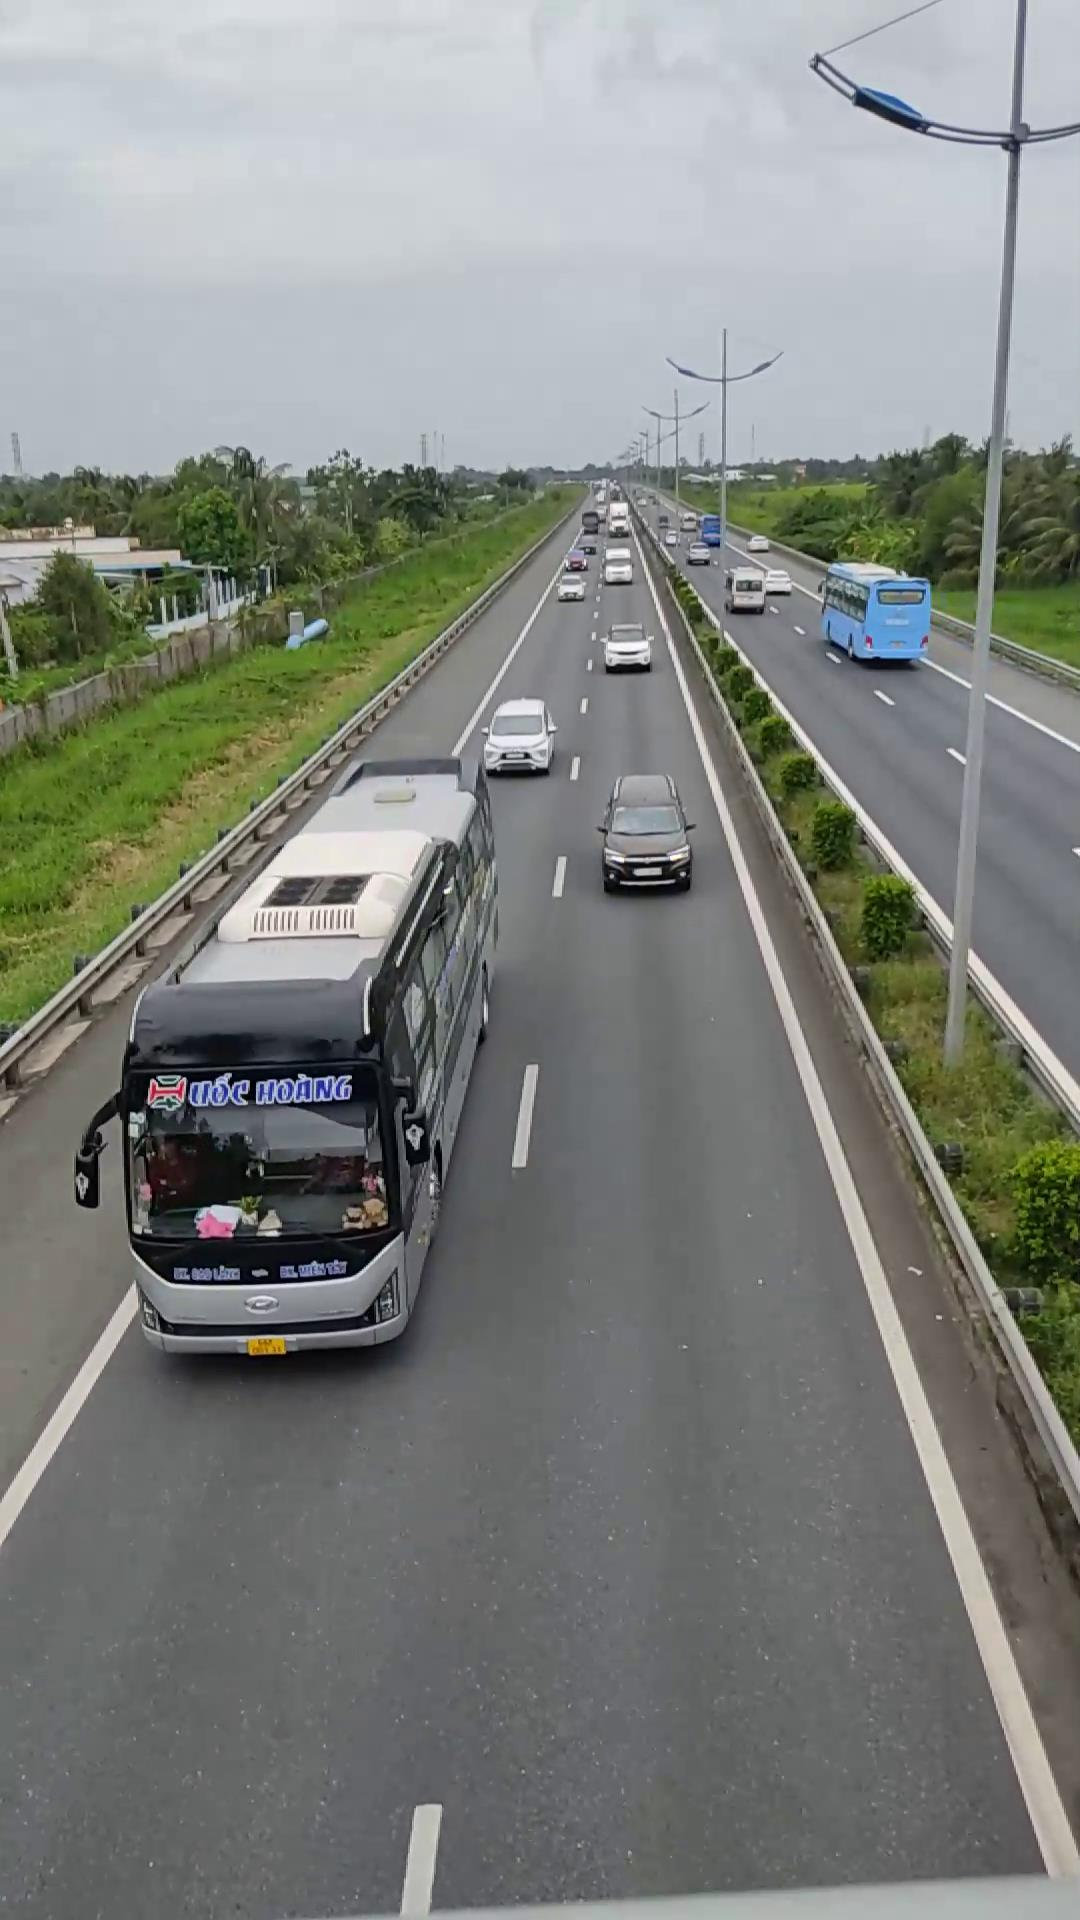bus: (91, 764, 500, 1357)
car: (596, 771, 696, 891), (473, 698, 556, 775)
